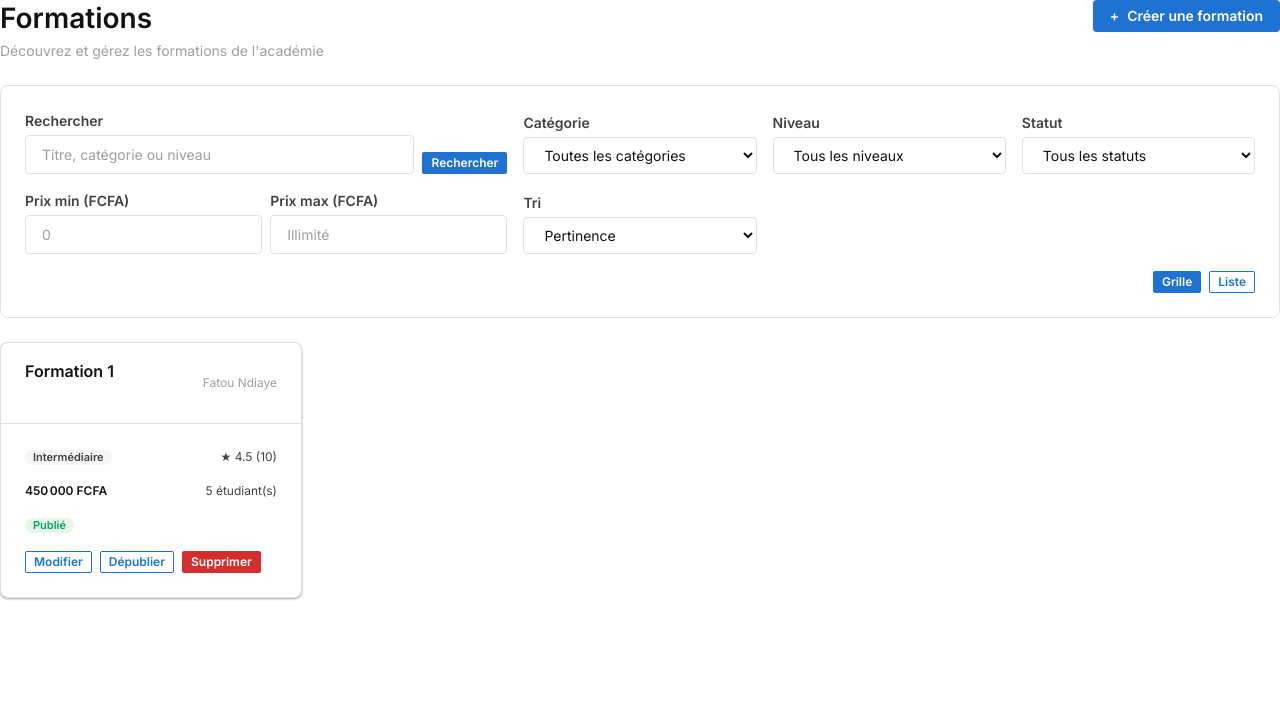
FormationListComponent › should delete a formation after confirmation in the modal
The width and height of the screenshot is (1280, 720).
Step 1. Click the button "Supprimer" → point(221, 562), box [182,551,261,573]
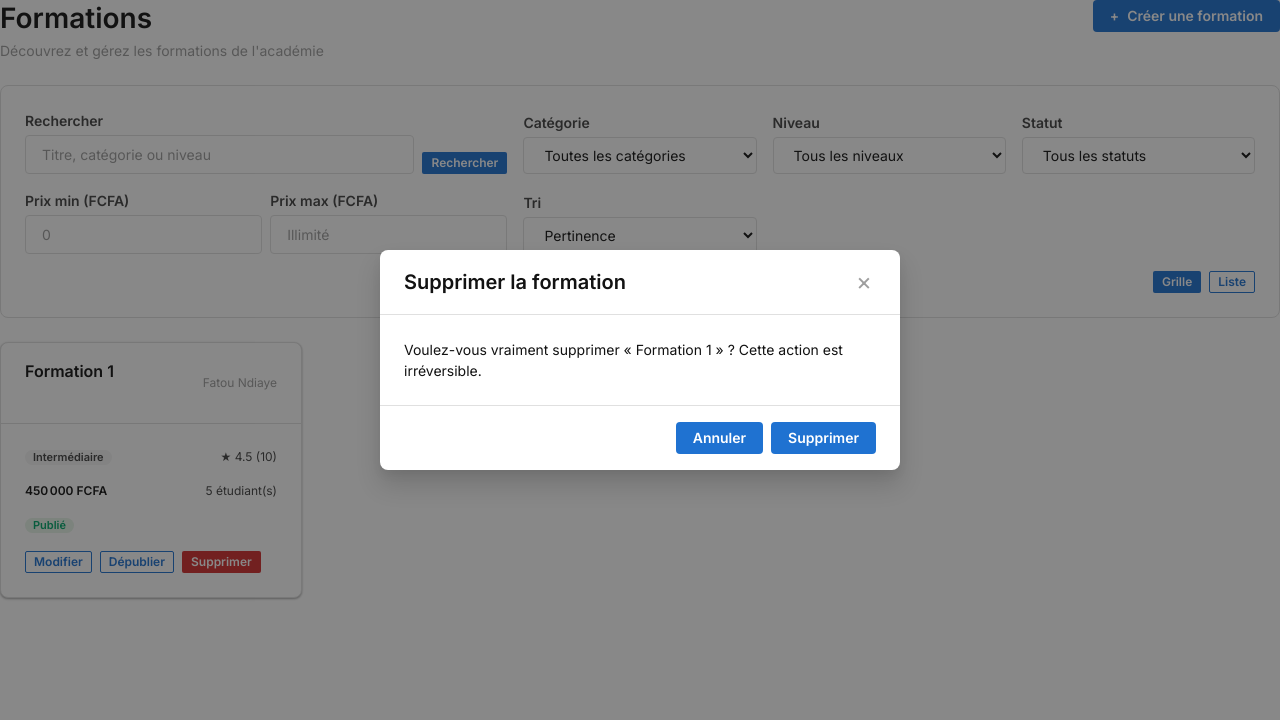
Result: the dialog with class "modal" is shown at [380,250,900,470]
Step 2. Click the button "Supprimer" → point(824, 438), box [771,422,876,454]
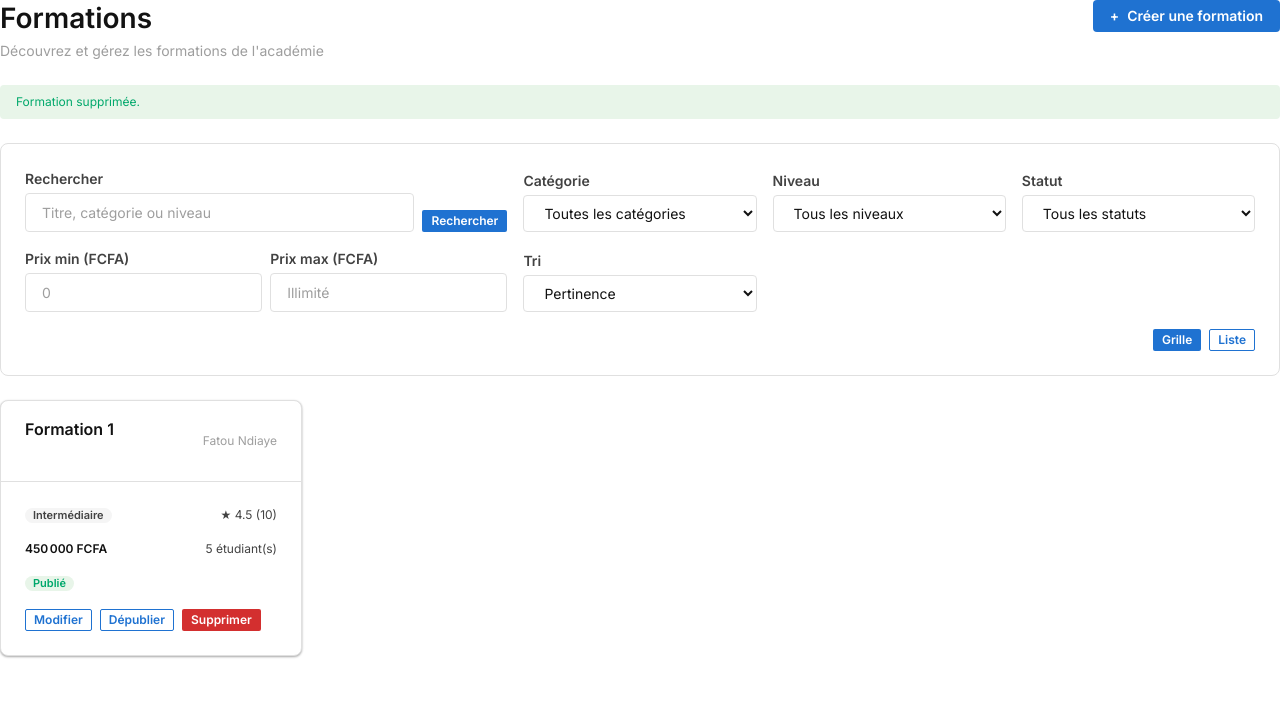
Result: the message with class "formations__notice" reads "Formation supprimée." at [16,94,140,109]
